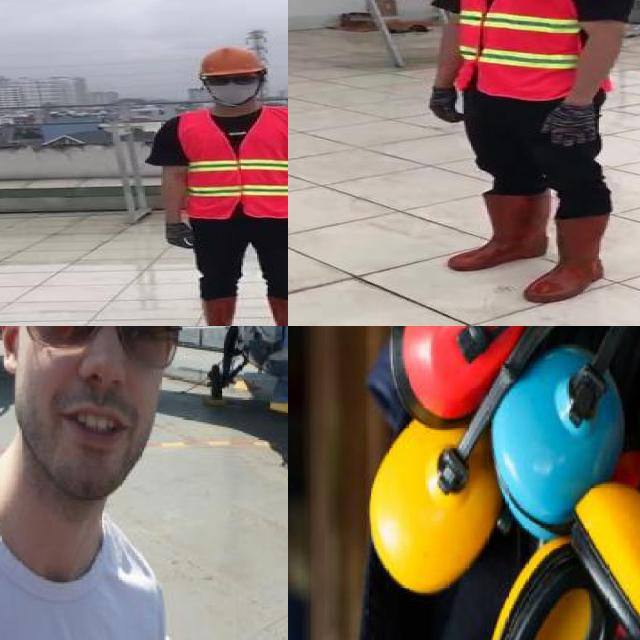Ear-protection: (461, 486, 640, 640), (499, 326, 640, 511), (347, 416, 504, 580), (348, 326, 539, 392)
boots: (519, 212, 613, 306), (448, 192, 546, 273), (189, 295, 237, 326), (266, 295, 288, 326)
face_mask: (200, 71, 259, 104)
face_nomask: (21, 326, 177, 465)
glasses: (8, 326, 177, 363), (199, 72, 260, 88)
hand_glove: (535, 104, 611, 145), (423, 84, 469, 124), (162, 220, 196, 249)
head_helmet: (196, 45, 268, 77)
person: (422, 0, 640, 305), (155, 45, 288, 326)
vest: (451, 0, 616, 98), (177, 104, 288, 219)
